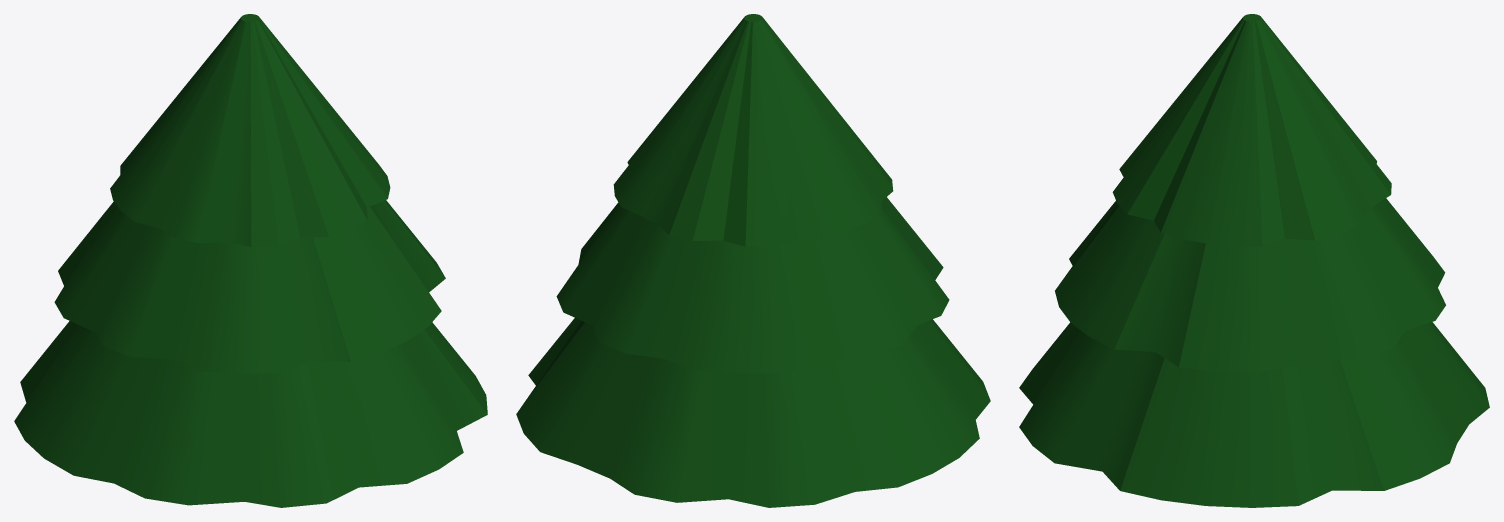
The model's file is tree.fbx.
3 renders of one model, left to right at view 1: azimuth 30°, elevation 25°; view 2: azimuth 150°, elevation 25°; view 3: azimuth 270°, elevation 25°, orthographic.
Visible parts, largest first — view 1: Cylinder, Cylinder.001, Cylinder.002; view 2: Cylinder, Cylinder.001, Cylinder.002; view 3: Cylinder, Cylinder.001, Cylinder.002.
Part boxes in pixels (x1,y1,x2,y2): Cylinder: [14, 321, 487, 507]; Cylinder.001: [54, 200, 445, 373]; Cylinder.002: [110, 14, 390, 247]; Cylinder: [516, 318, 990, 507]; Cylinder.001: [556, 197, 949, 373]; Cylinder.002: [613, 14, 893, 246]; Cylinder: [1019, 322, 1489, 507]; Cylinder.001: [1055, 198, 1445, 373]; Cylinder.002: [1112, 14, 1391, 246].
Bounding box in the file's own units: 200 × 203 × 198.
